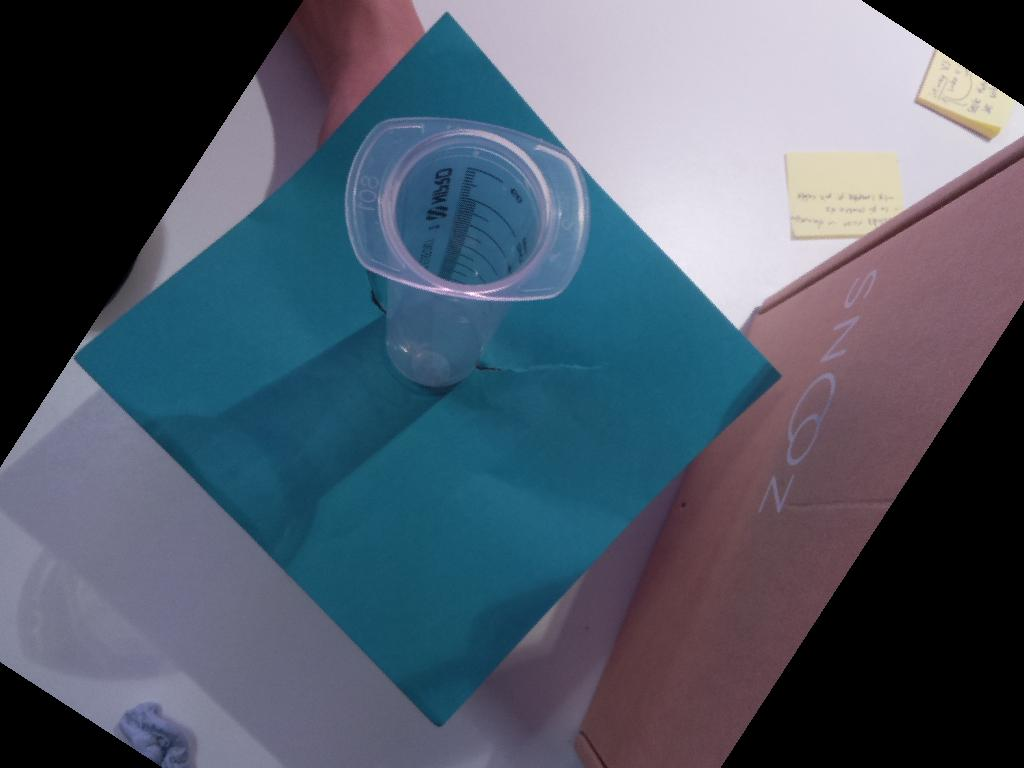clean: (342, 116, 594, 299)
